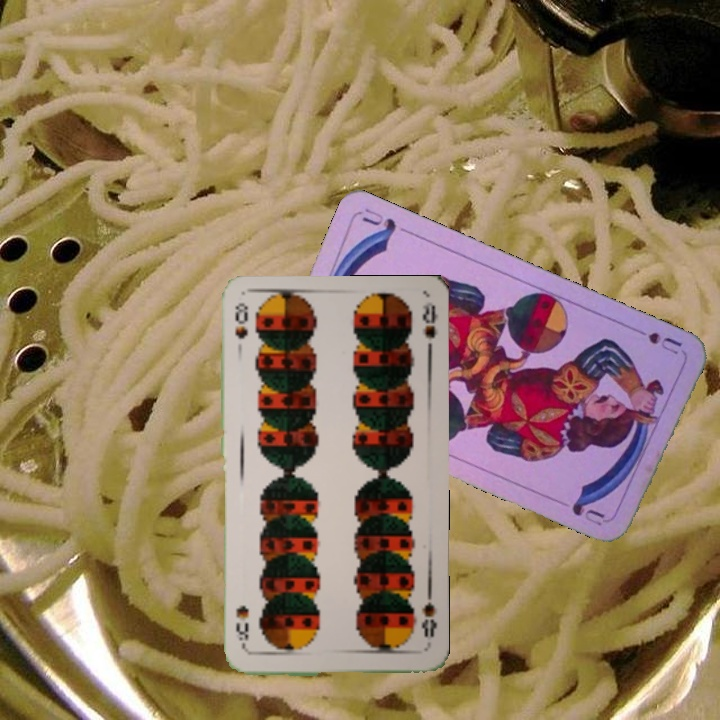S8: (418, 590, 440, 639), (231, 301, 250, 342)
SU: (628, 323, 684, 358)
